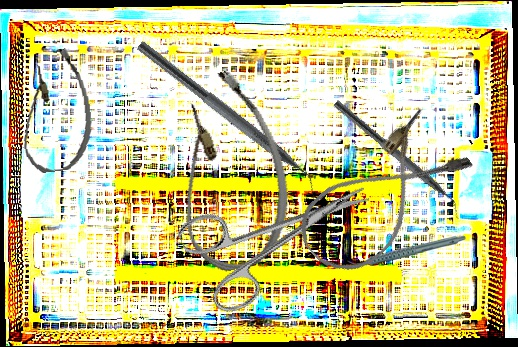Cannula: (286, 105, 477, 288), (148, 62, 307, 280), (12, 46, 98, 175)
Chopper: (126, 40, 331, 204), (325, 99, 470, 222)
Handpiece: (347, 234, 466, 266)
Iris Scissors: (174, 149, 389, 321)
